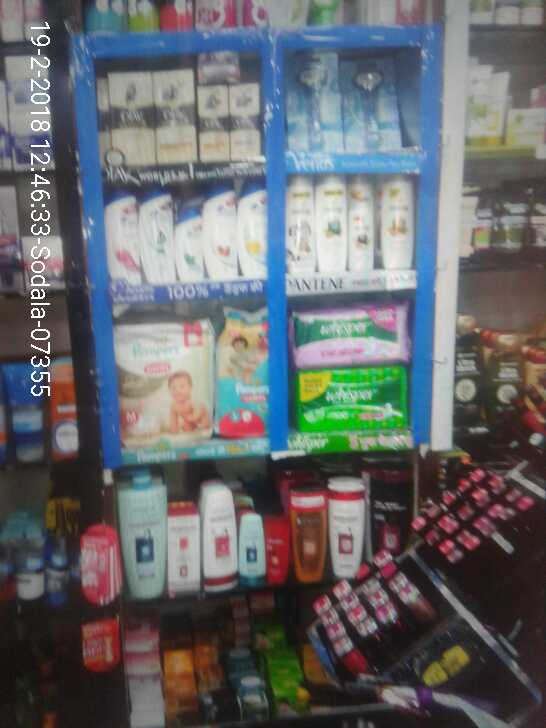venus: (292, 51, 345, 148), (343, 56, 397, 148)
